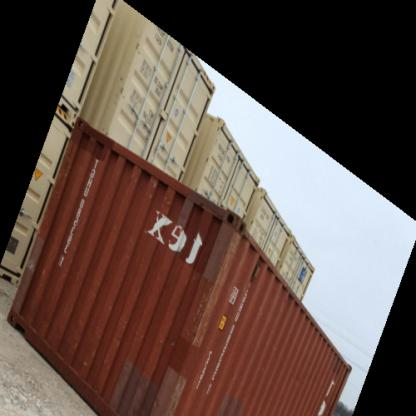Damage: (214, 218, 246, 284), (188, 278, 218, 342), (144, 174, 180, 216), (74, 342, 112, 380)
